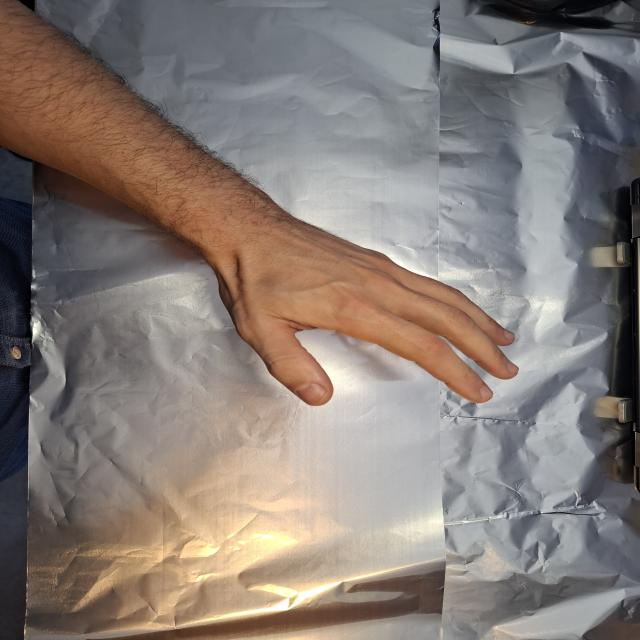glove_off: (204, 202, 523, 410)
